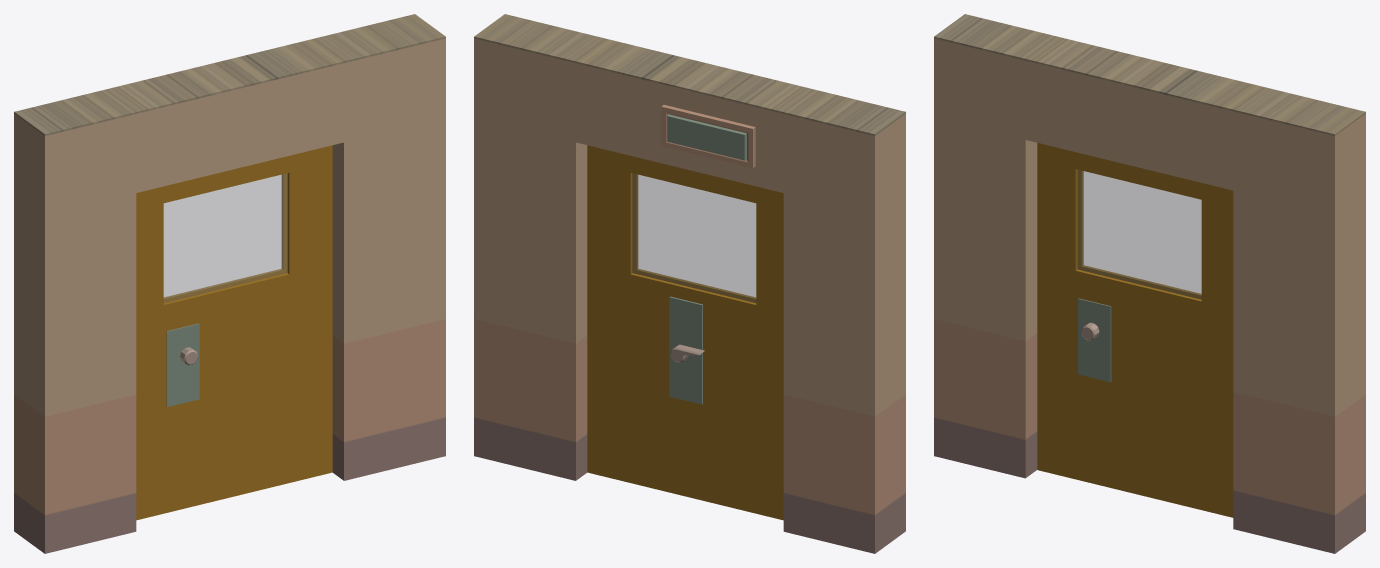
File: Wall_Door02.fbx
The picture shows the model from 3 angles, left to right: view 1: azimuth 30°, elevation 25°; view 2: azimuth 150°, elevation 25°; view 3: azimuth 330°, elevation 25°; orthographic projection.
Visible parts, largest first — view 1: Wall, Door01; view 2: Wall, Door01; view 3: Wall, Door01.
Part boxes in pixels (x1,y1,x2,y2): Wall: (14, 14, 445, 553); Door01: (136, 145, 332, 520); Wall: (474, 14, 905, 553); Door01: (587, 145, 783, 520); Wall: (934, 14, 1365, 553); Door01: (1037, 143, 1233, 517).
Bounding box in the file's own units: 3 × 3 × 0.4493.
